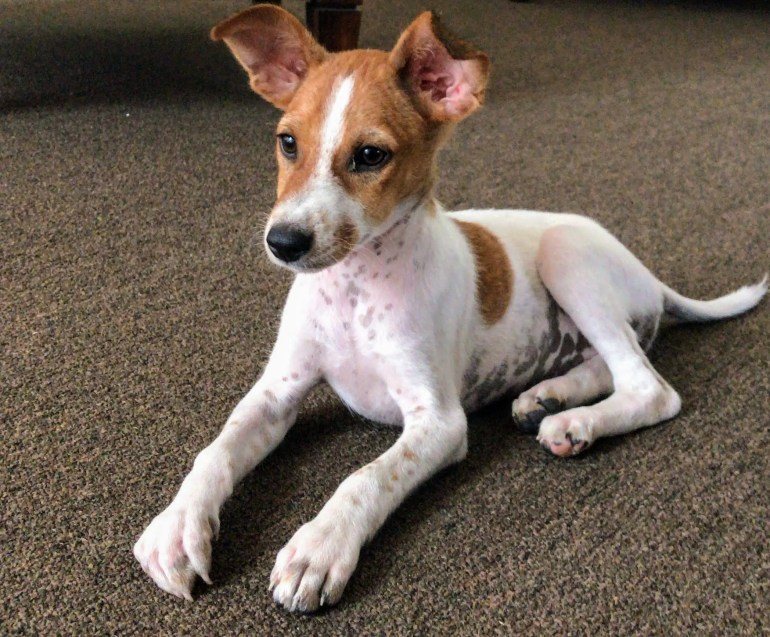Dog: (135, 1, 766, 622)
